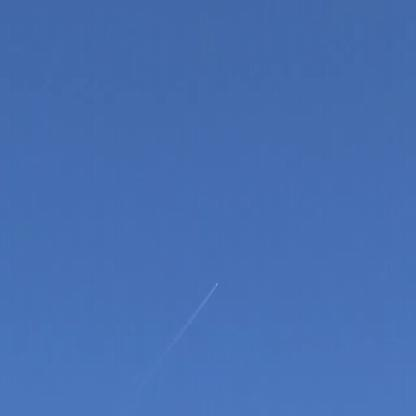CIV_Plane: (213, 276, 221, 288)
